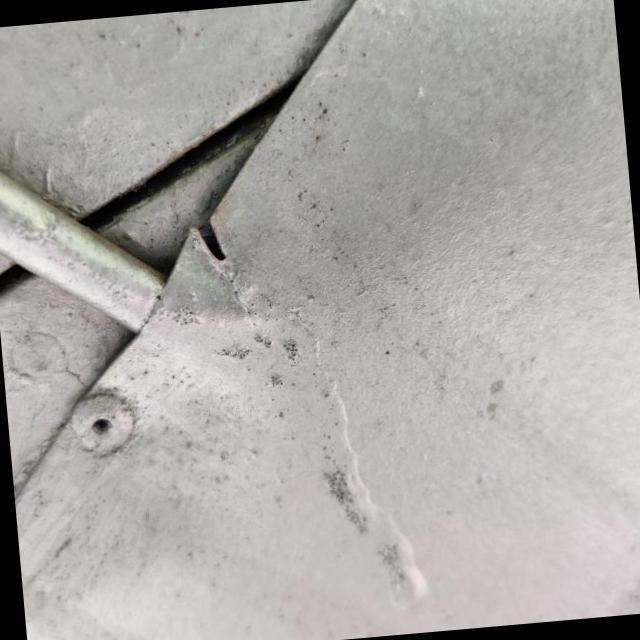Crack: (198, 220, 225, 260)
